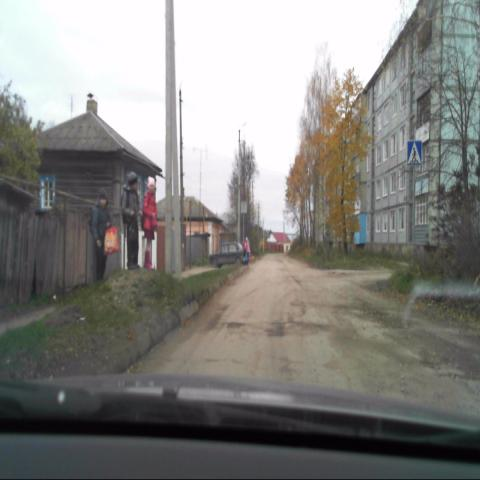5_19_1: (406, 140, 422, 164)
